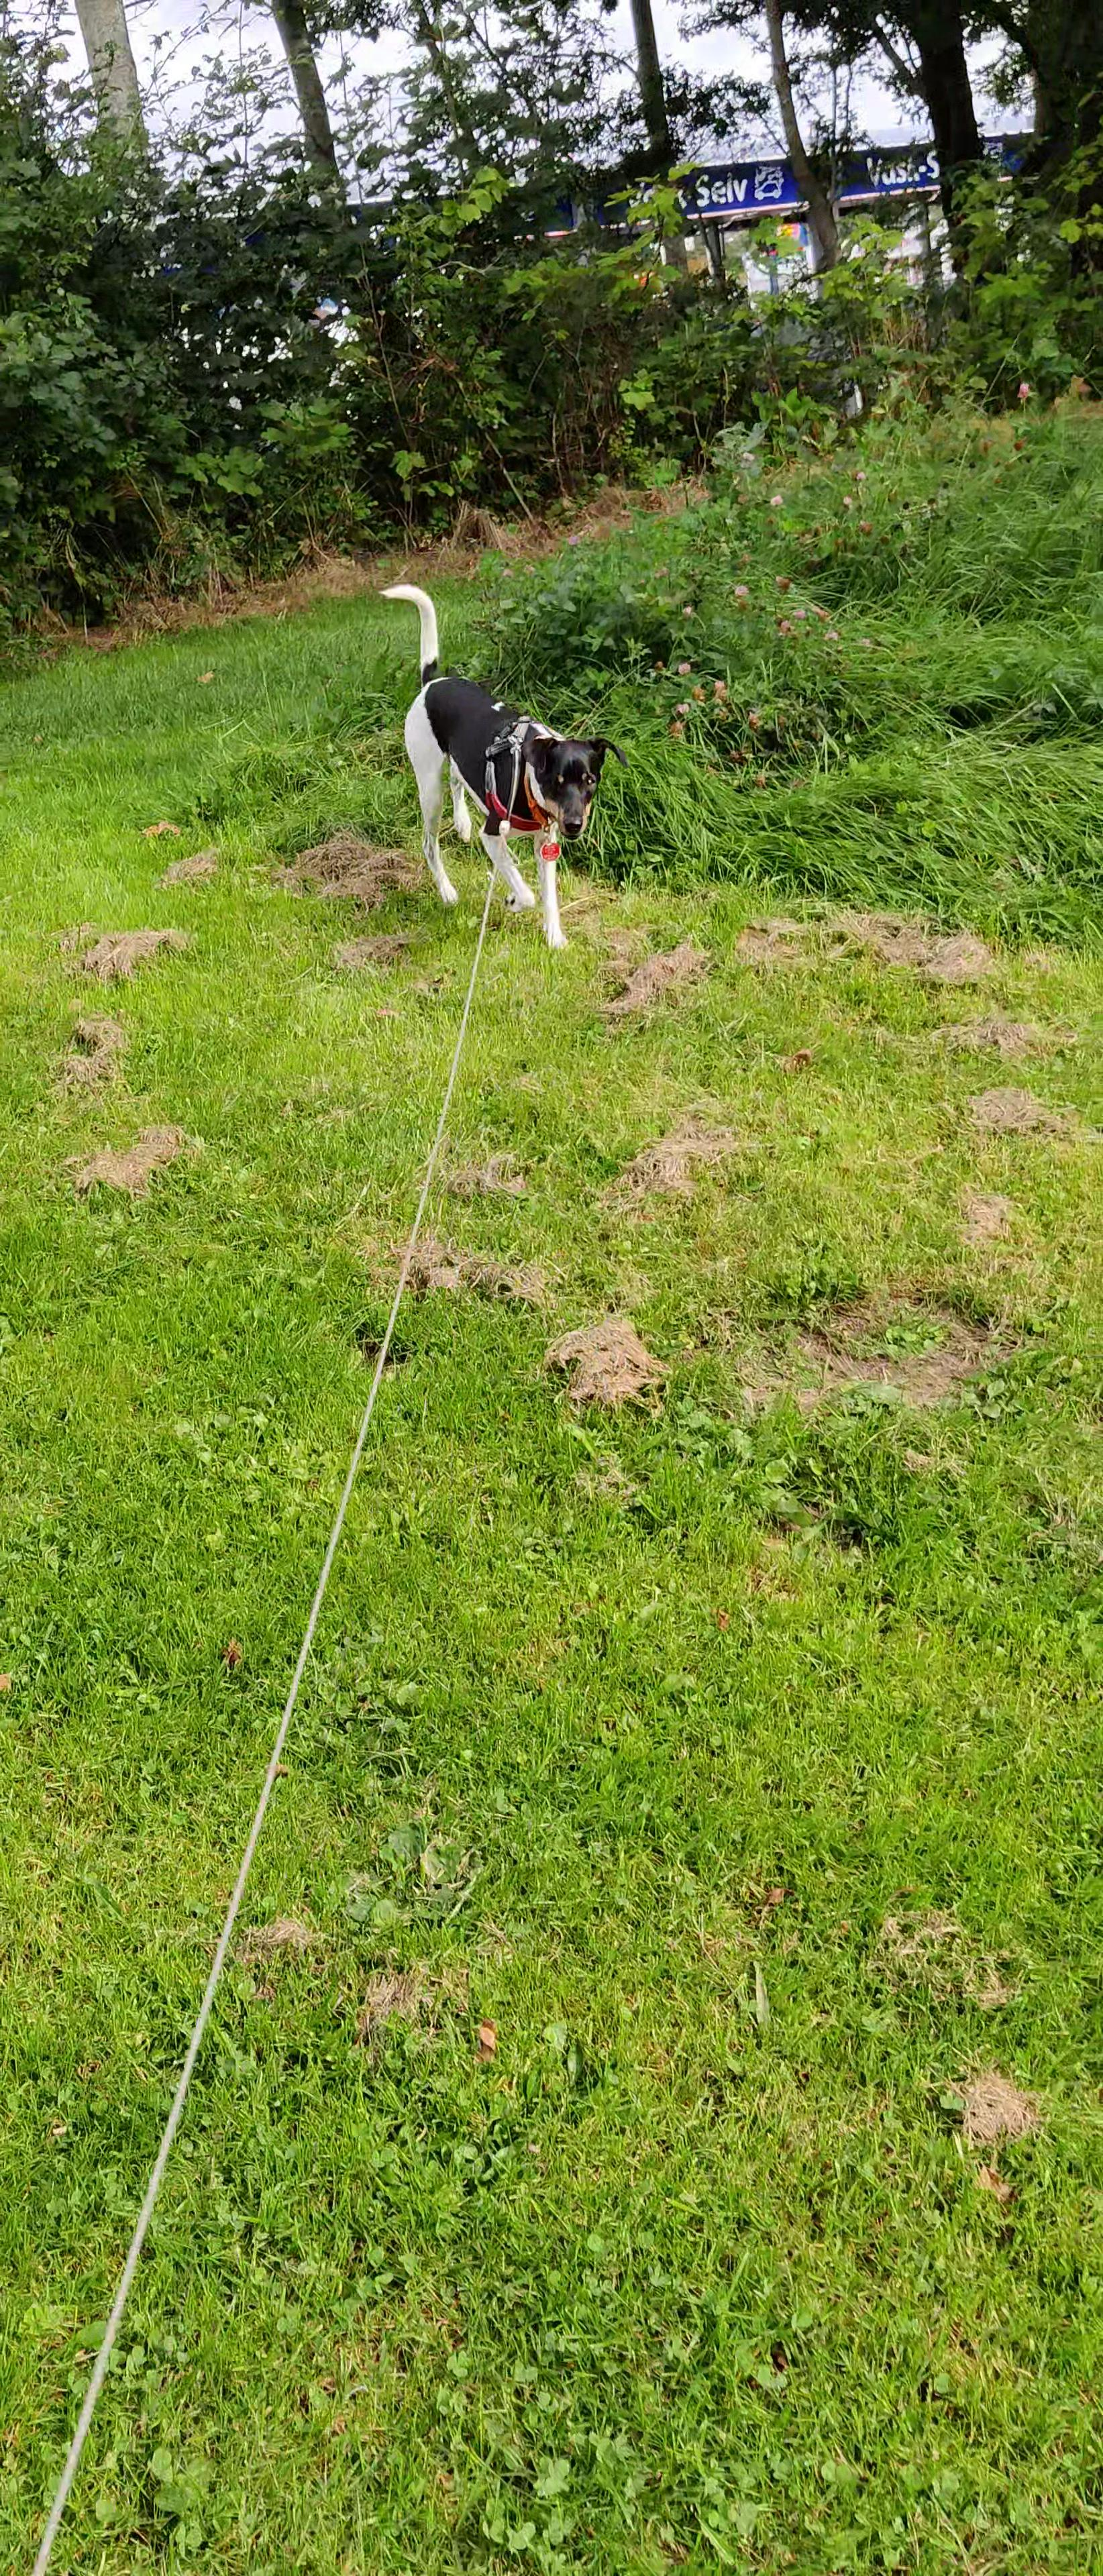Dog: (365, 568, 643, 959)
